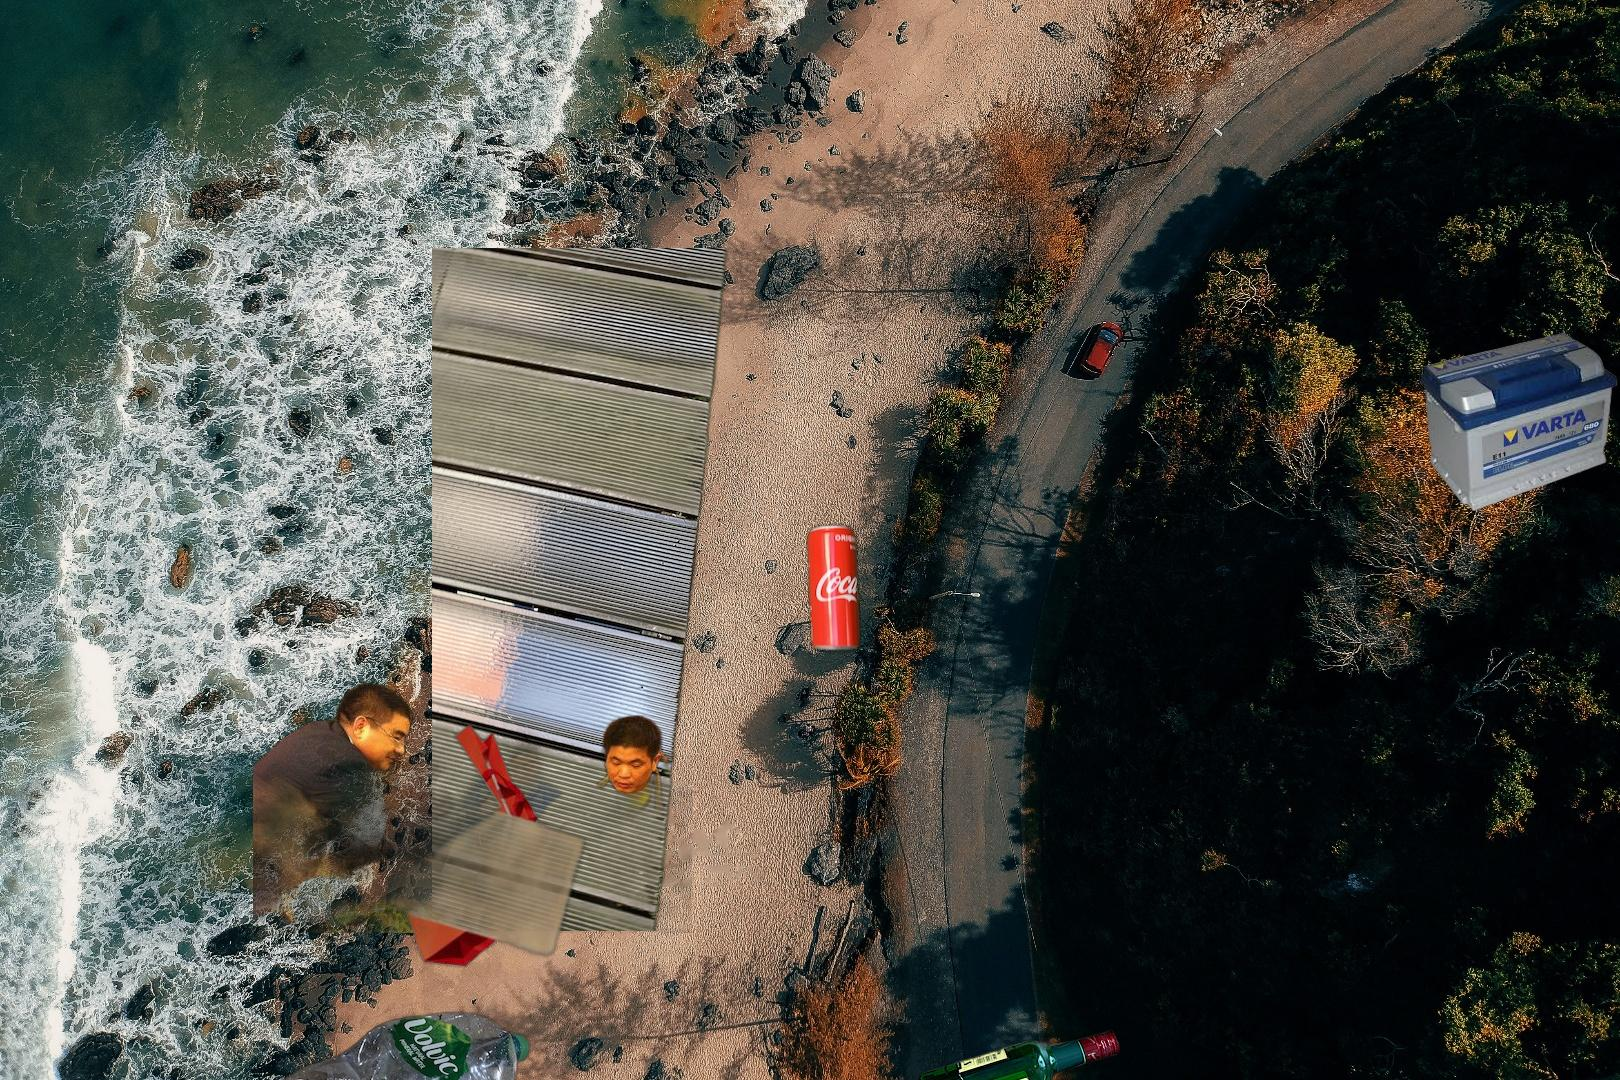battery: (1417, 330, 1620, 513)
biological: (253, 680, 692, 933)
glass: (912, 616, 1125, 1080)
metal-cans: (432, 248, 864, 931)
paper-bag: (325, 685, 597, 985)
plastic-bottles: (213, 1008, 724, 1080)
